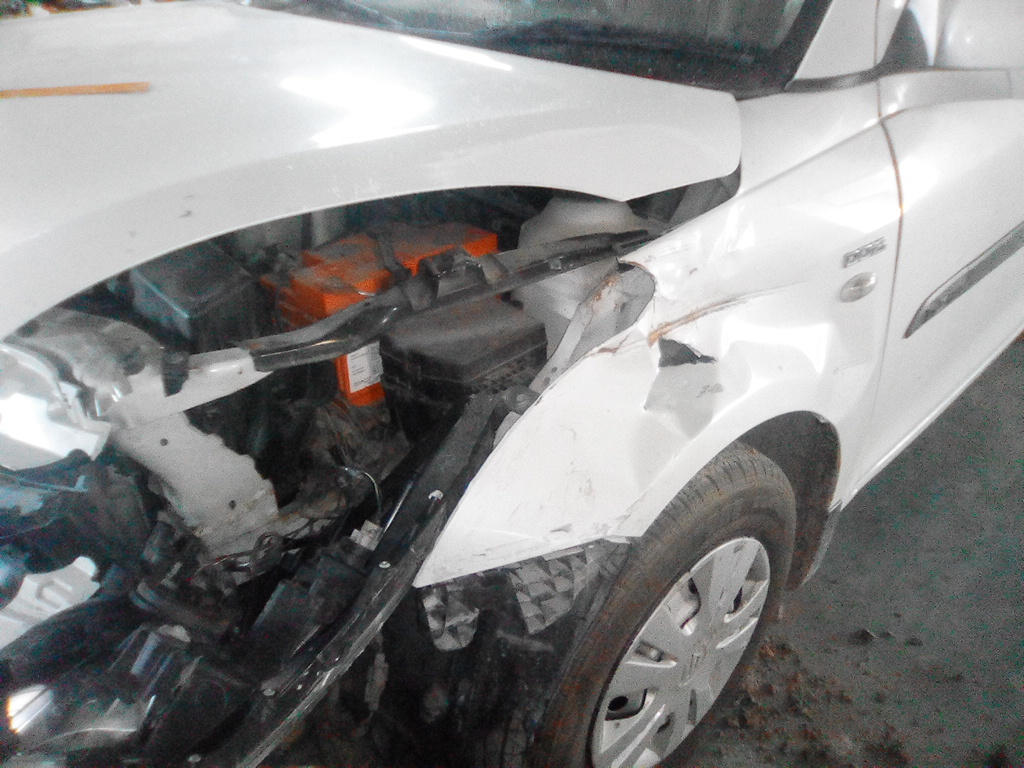Large_tear_or_damage: (12, 130, 801, 739)
